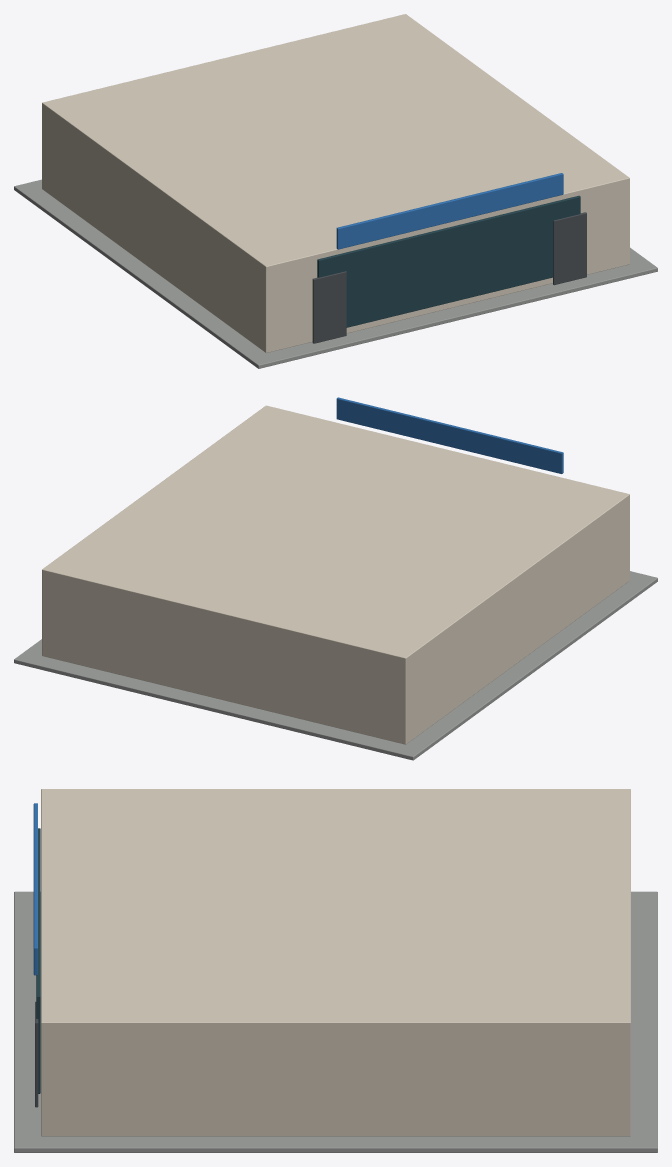
File: Building_Commercial_013.glb
The picture shows the model from 3 angles, top to bottom: view 1: azimuth 30°, elevation 25°; view 2: azimuth 150°, elevation 25°; view 3: azimuth 270°, elevation 25°; orthographic projection. The views are drawn at different scales.
Parts seen in each view (by area): view 1: Building_Commercial_013; view 2: Building_Commercial_013; view 3: Building_Commercial_013.
Boxes of the visible parts, x1,y1,x2,y2 form: Building_Commercial_013: [14, 14, 657, 368]; Building_Commercial_013: [14, 397, 657, 760]; Building_Commercial_013: [14, 789, 657, 1152].
Size of the model in its own units: 16.86 by 4.59 by 17.89.
